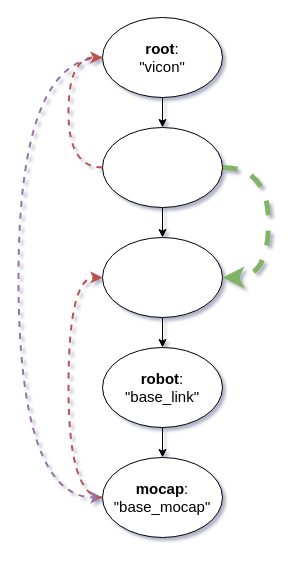
Image size: 294x561. Some labels were removed from this diagram. The centre of each missing label's shape, as x and y in pixels:
map : "map": [162,167]
odom : "odom": [162,277]
